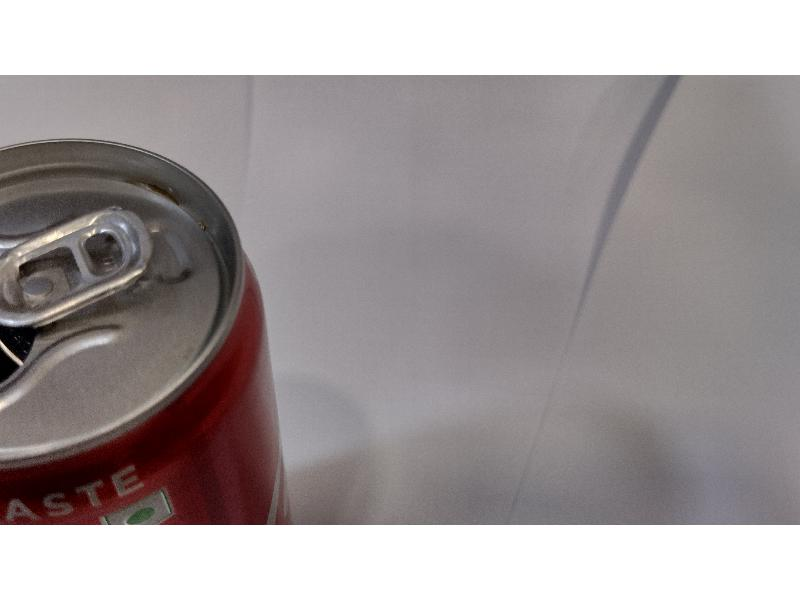can: (1, 124, 300, 527)
